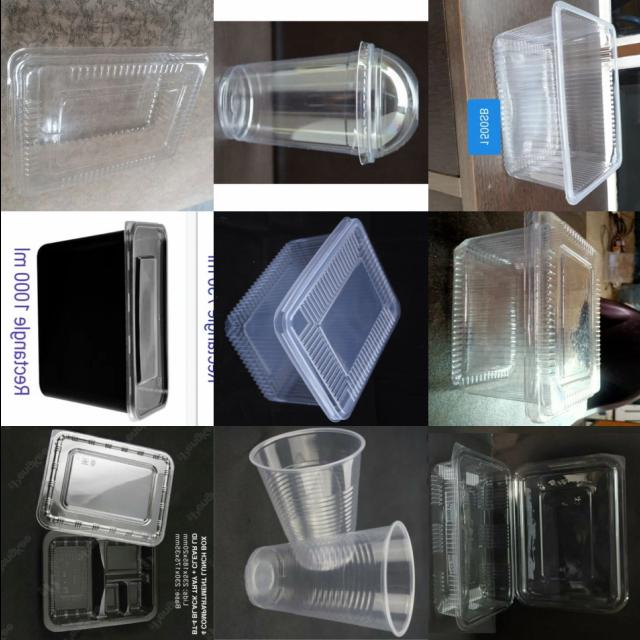plastik: (429, 443, 627, 629), (224, 218, 399, 422), (451, 212, 598, 423), (7, 47, 207, 195), (492, 0, 621, 204), (36, 222, 167, 421), (217, 42, 418, 164), (244, 521, 413, 637), (248, 428, 364, 571), (36, 429, 173, 546), (42, 531, 156, 631)
